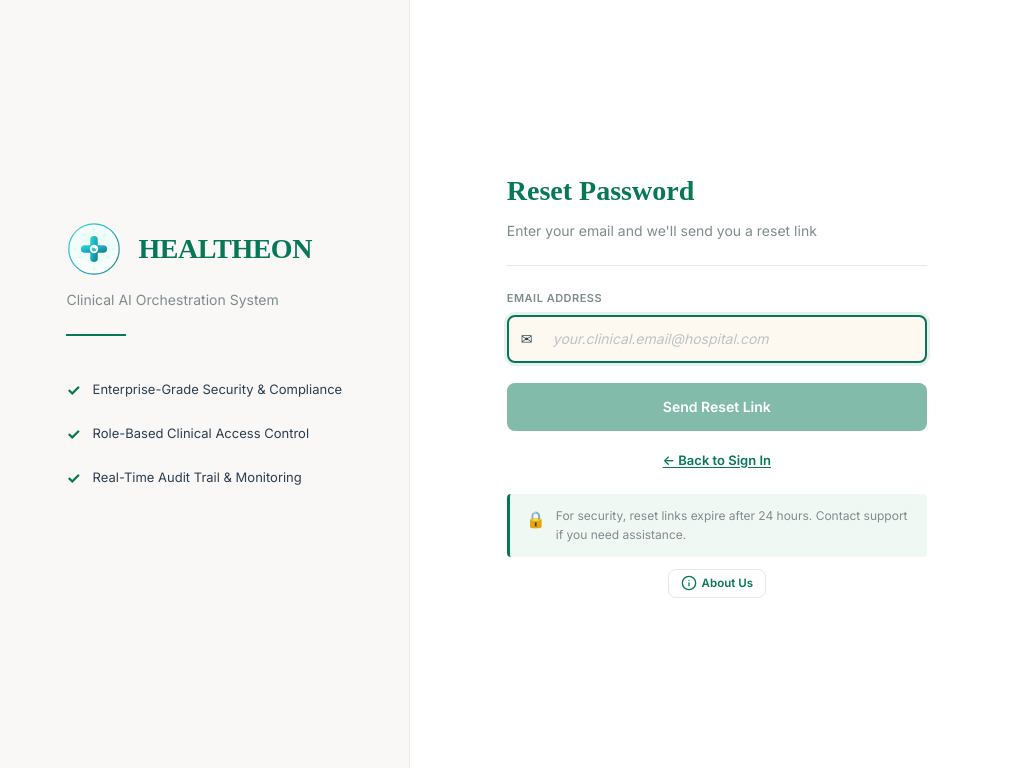
ForgotPasswordPage › enables button when email is filled
The width and height of the screenshot is (1024, 768).
In the field with placeholder "your.clinical.email@hospital.com": (717, 339) [507,315,927,363], type "test@test.com"
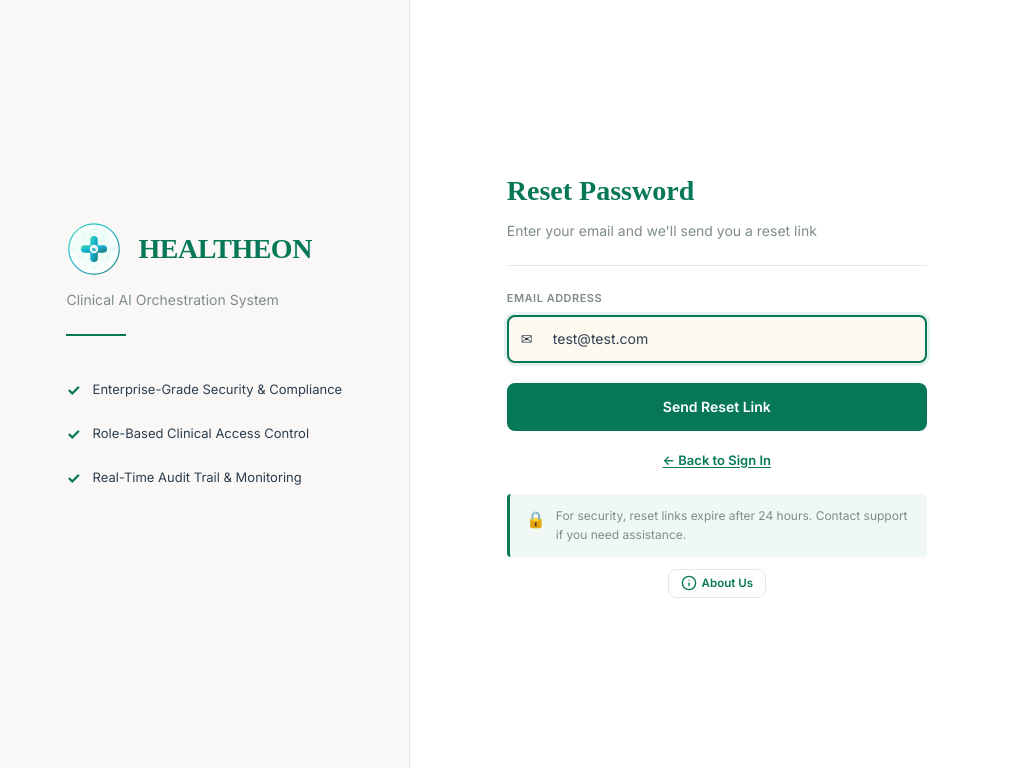
expect the button "Send Reset Link" is enabled: met, box [507,383,927,431]
